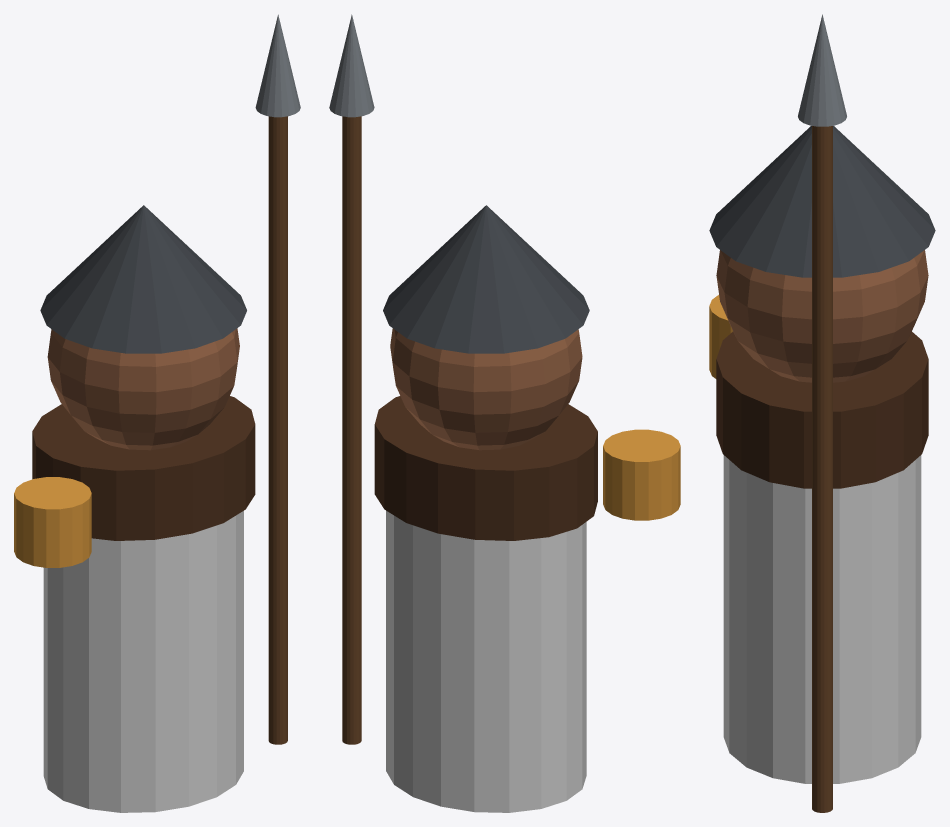
File: watchman.e5e2211c.glb
The picture shows the model from 3 angles, left to right: view 1: azimuth 30°, elevation 25°; view 2: azimuth 150°, elevation 25°; view 3: azimuth 270°, elevation 25°; orthographic projection. The views are drawn at different scales.
Visible parts, largest first — view 1: body, accent; view 2: body, accent; view 3: body, accent.
Boxes of the visible parts, bbox=[...] form: body: bbox=[14, 14, 300, 744]; accent: bbox=[43, 511, 243, 812]; body: bbox=[329, 14, 680, 744]; accent: bbox=[386, 510, 586, 812]; body: bbox=[709, 14, 935, 812]; accent: bbox=[723, 455, 921, 783].
Bounding box in the file's own units: 0.5536 × 1.24 × 0.32.
